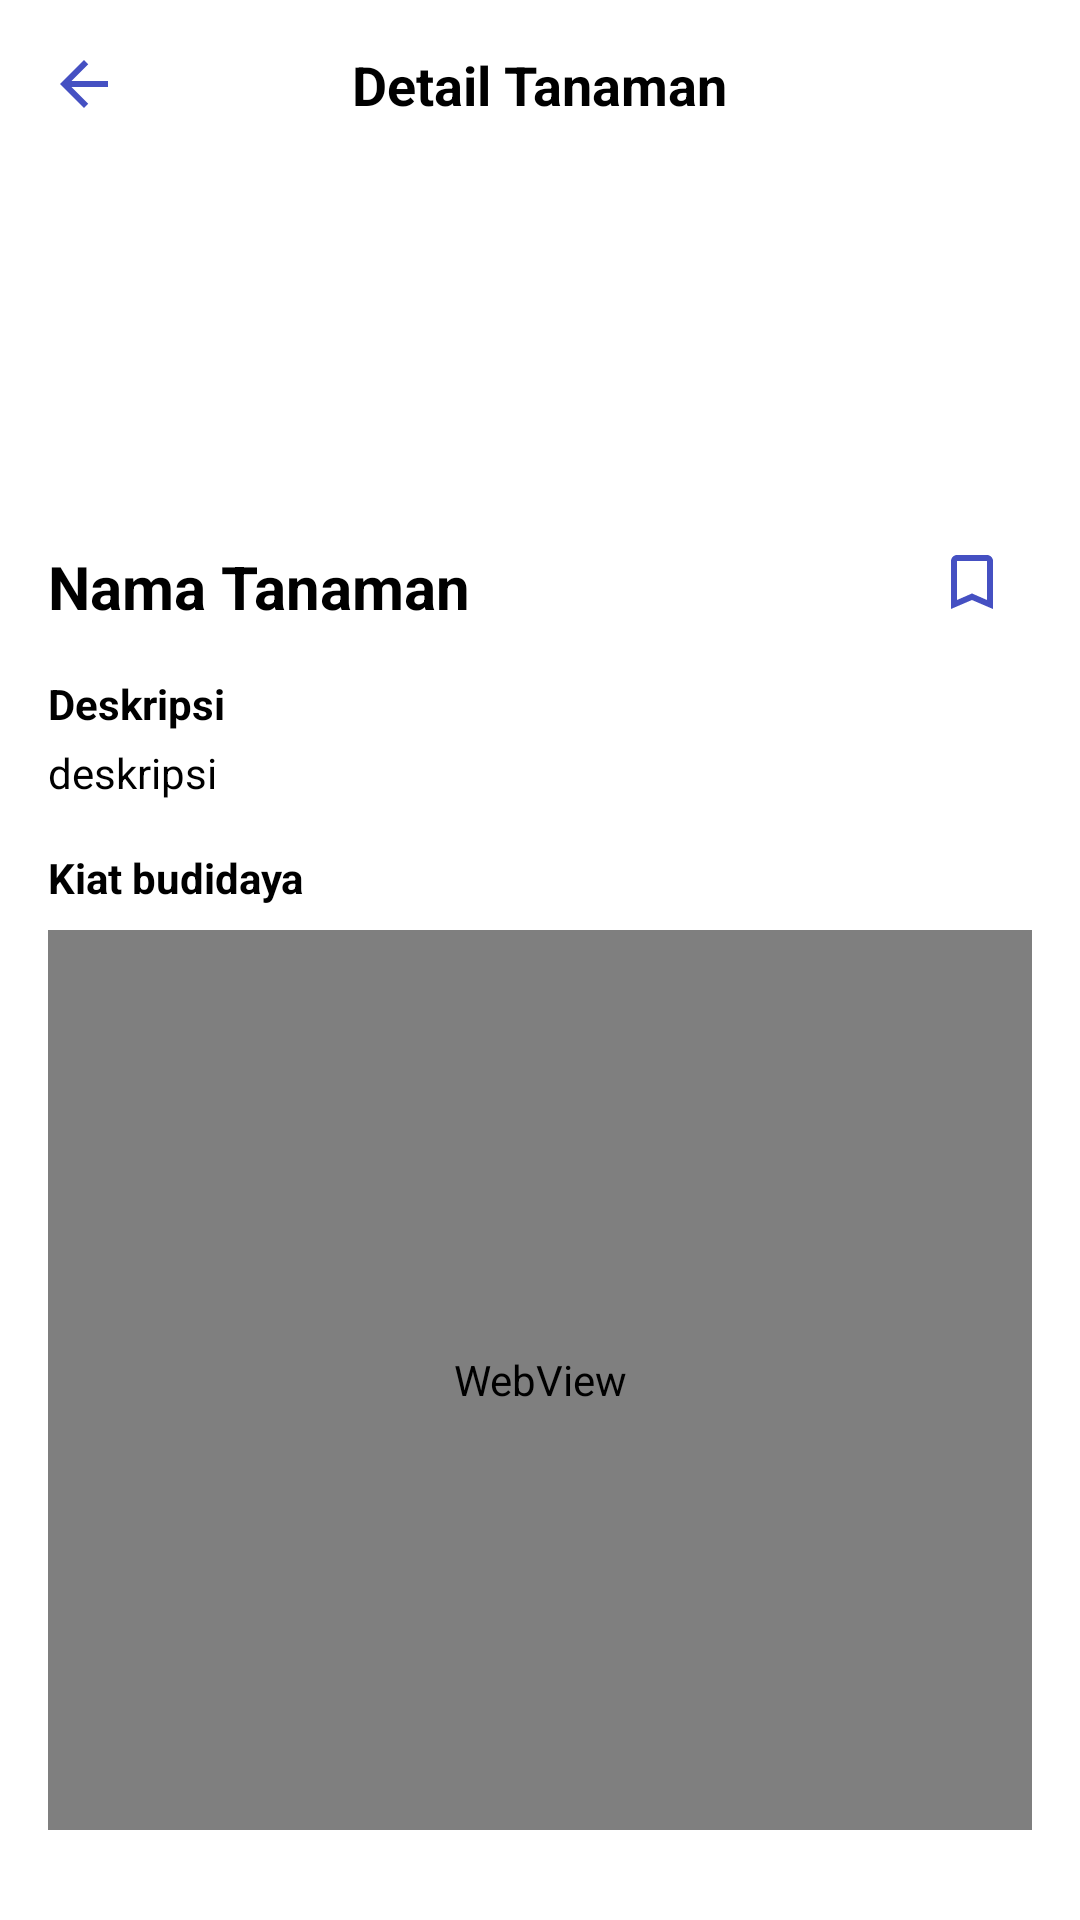

Point at icon controls on the screen. Image size 1080 x 1920, points as (x=x, y=y).
Kembali: (x=84, y=84)
Tambah ke favorit: (x=972, y=582)
